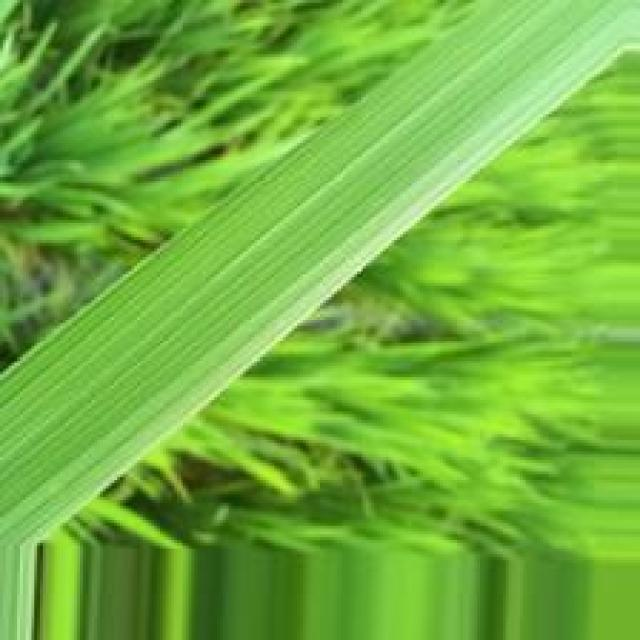HealthyLeaf: (3, 2, 610, 515)
